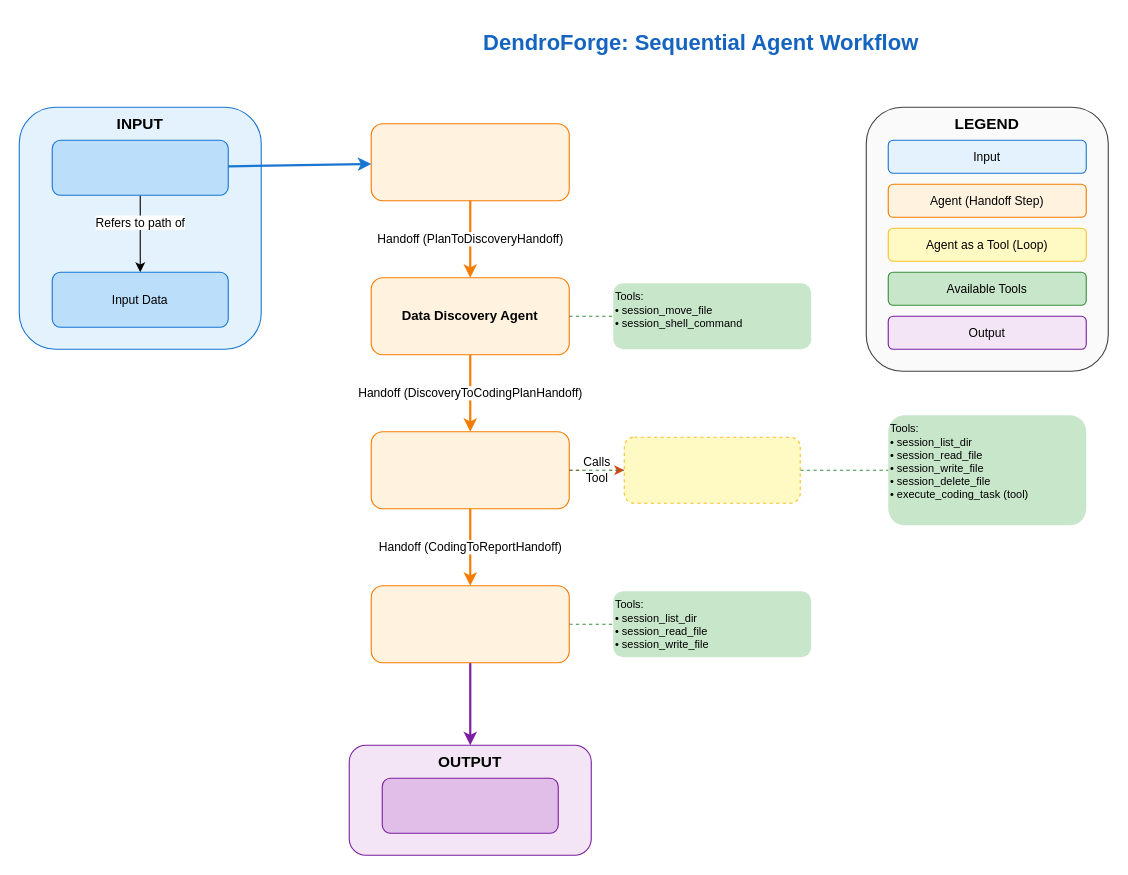
Image size: 1128x875. Some labels were removed from this diagram. The shapes that lost their labels are listed below. From the top down, each one's box as (x1, y1, x2, y2) in pixels, then its label:
(51, 139, 228, 195): User Prompt (from .txt file)
(370, 123, 569, 201): Initial Planning Agent
(370, 431, 569, 509): Coding Planning Agent
(623, 436, 800, 503): Coding Agent (agent-as-a-tool)
(370, 585, 569, 663): Report Generation Agent
(381, 777, 558, 833): report.md
